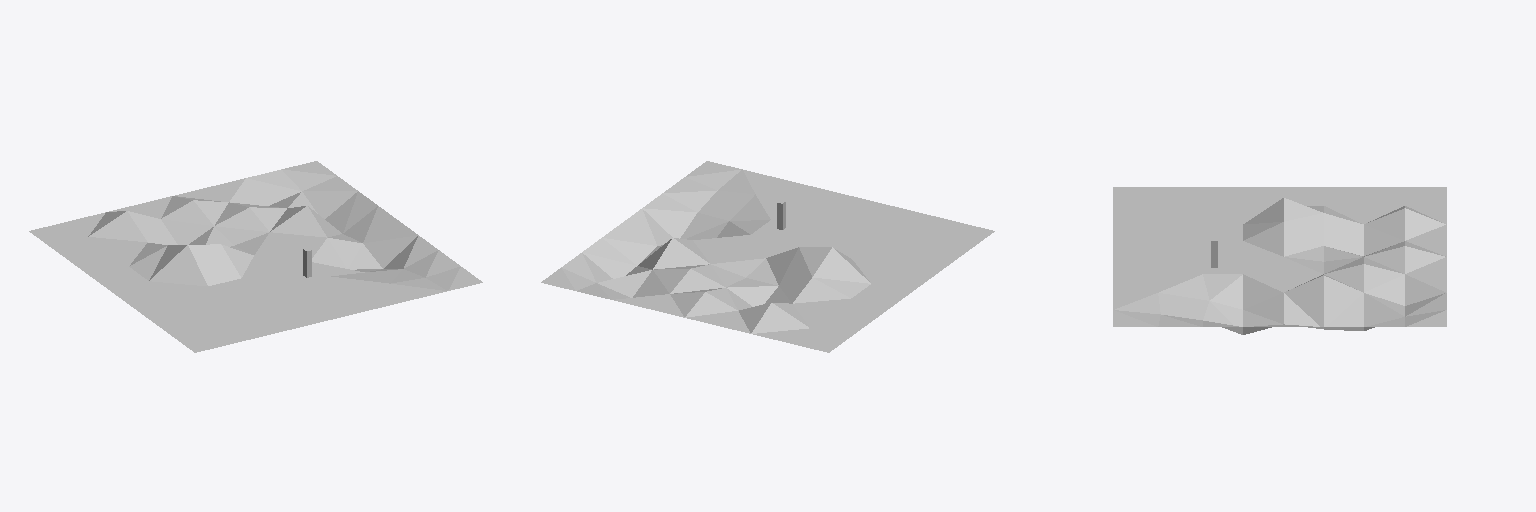
Rendered from MAP2.obj.
3 views of the same model, side by side, from view 1: azimuth 30°, elevation 25°; view 2: azimuth 150°, elevation 25°; view 3: azimuth 270°, elevation 25° (orthographic).
Visible parts, largest first — view 1: GROUND_Plane; view 2: GROUND_Plane; view 3: GROUND_Plane.
Part boxes in pixels (left/top/right/bottom): GROUND_Plane: left=29, top=161, right=482, bottom=352; GROUND_Plane: left=541, top=161, right=994, bottom=352; GROUND_Plane: left=1113, top=187, right=1446, bottom=334.
Bounding box in the file's own units: 100 × 17.36 × 100.